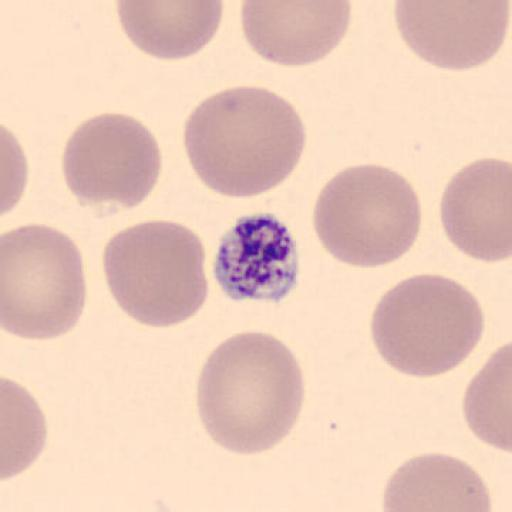Platelet: (209, 210, 303, 305)
RBC: (194, 328, 308, 458), (181, 84, 308, 200), (369, 272, 486, 380), (311, 161, 424, 269), (100, 219, 209, 330), (2, 222, 89, 342), (62, 111, 163, 211), (392, 0, 511, 72), (439, 155, 512, 264), (240, 1, 352, 68), (381, 451, 494, 512), (115, 0, 224, 63), (462, 340, 512, 453), (2, 376, 49, 482), (0, 123, 30, 218)
